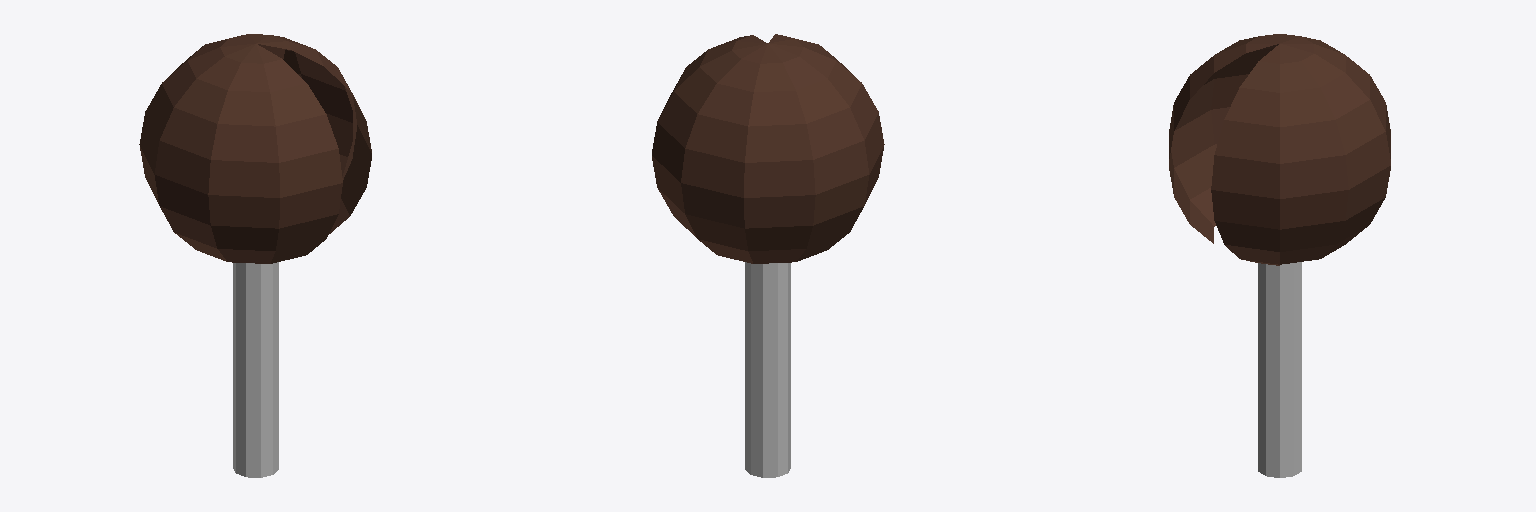
The model's file is tree.obj.
3 renders of one model, left to right at view 1: azimuth 30°, elevation 25°; view 2: azimuth 150°, elevation 25°; view 3: azimuth 270°, elevation 25°, orthographic.
Parts seen in each view (by area): view 1: Tree_Crown, Tree_Trunk; view 2: Tree_Crown, Tree_Trunk; view 3: Tree_Crown, Tree_Trunk.
Part boxes in pixels (bbox=[...]): Tree_Crown: bbox=[139, 34, 371, 263]; Tree_Trunk: bbox=[233, 262, 278, 477]; Tree_Crown: bbox=[652, 34, 884, 263]; Tree_Trunk: bbox=[745, 262, 790, 477]; Tree_Crown: bbox=[1169, 34, 1390, 265]; Tree_Trunk: bbox=[1258, 262, 1301, 477].
Size of the model in its own units: 1 by 2 by 0.9511.